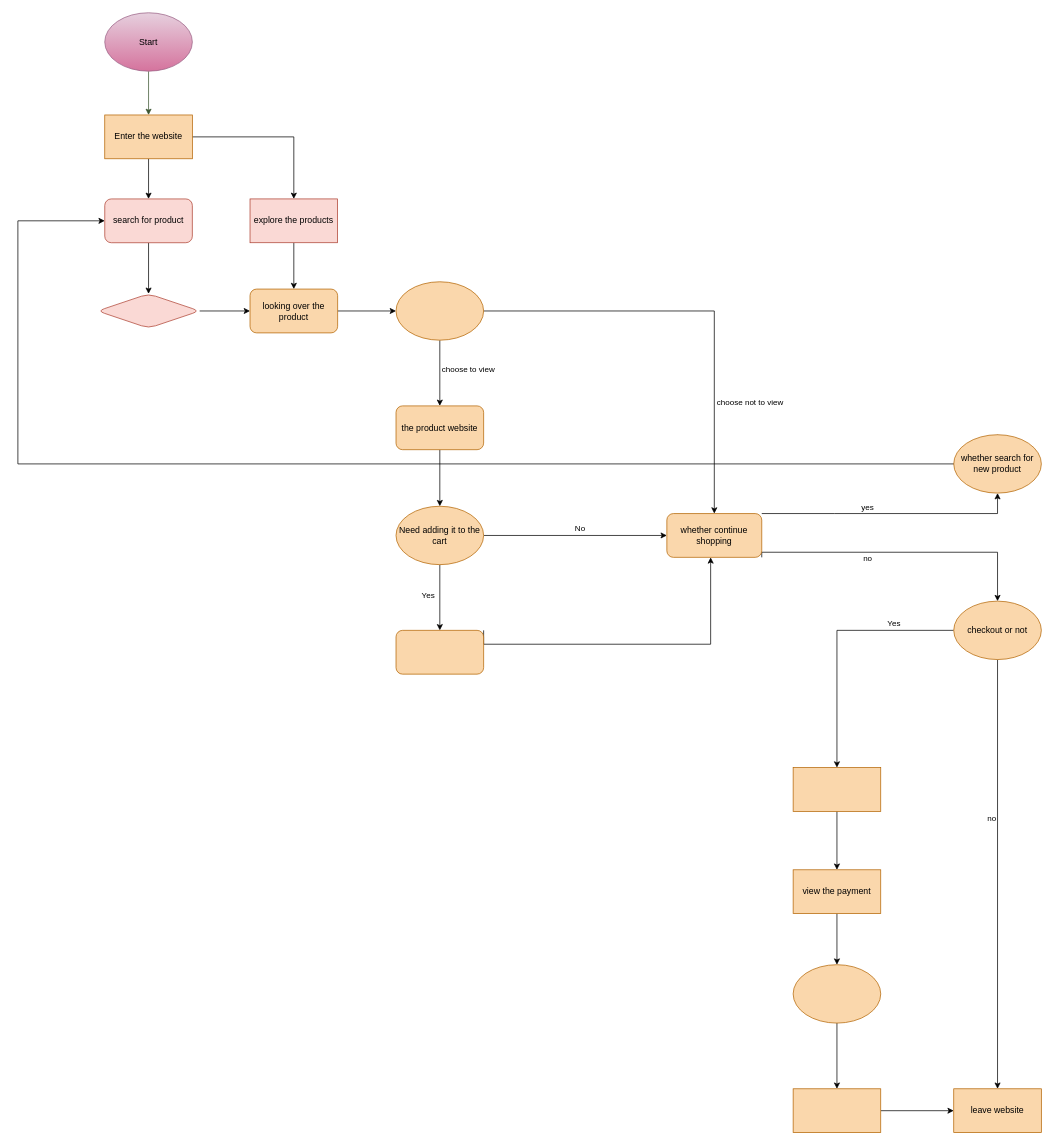
This 1054x1145 diagram has some shape labels left out. The shapes that lost their labels are listed below. From the top down, each one's centre as x and y in pixels, then its label:
At (148,310): "provide input".
At (439,310): "finding a specifc product".
At (439,652): "an added to cart confirmation".
At (836,789): "view the cart".
At (836,993): "input the payment".
At (836,1110): "see the confirmation and receive email".
